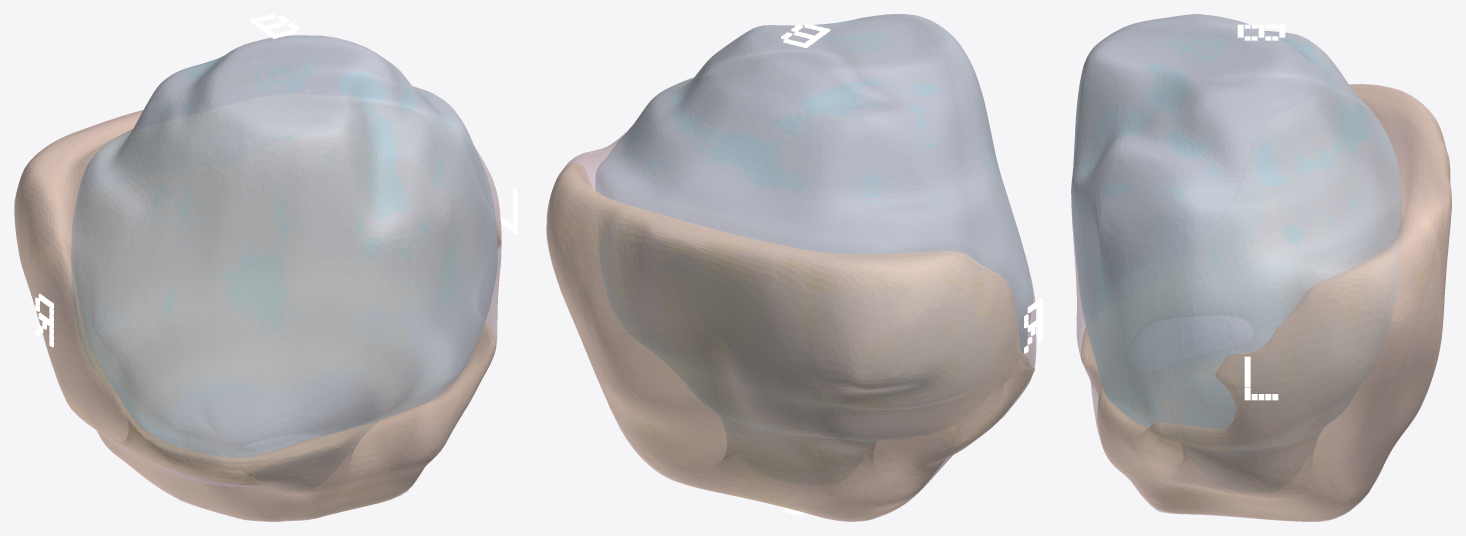
3 renders of one model, left to right at view 1: azimuth 30°, elevation 25°; view 2: azimuth 150°, elevation 25°; view 3: azimuth 270°, elevation 25°, orthographic.
Parts seen in each view (by area): view 1: prostate_gland, transition_zone, peripheral_zone, pv_ar_marker_B; view 2: prostate_gland, peripheral_zone, transition_zone, pv_ar_marker_B; view 3: prostate_gland, transition_zone, peripheral_zone, pv_ar_marker_B, pv_ar_marker_L.
Boxes of the visible parts, box(x1,y1,x2,y2) form: prostate_gland: box(14, 35, 501, 521); transition_zone: box(71, 35, 497, 457); peripheral_zone: box(15, 110, 501, 521); pv_ar_marker_B: box(249, 14, 299, 38); prostate_gland: box(546, 14, 1036, 521); peripheral_zone: box(547, 162, 1034, 520); transition_zone: box(595, 14, 1032, 440); pv_ar_marker_B: box(781, 23, 830, 48); prostate_gland: box(1071, 14, 1451, 521); transition_zone: box(1071, 14, 1401, 449); peripheral_zone: box(1081, 84, 1451, 521); pv_ar_marker_B: box(1237, 24, 1285, 40); pv_ar_marker_L: box(1244, 356, 1278, 400).
Bounding box in the file's own units: 0.0582 × 0.0569 × 0.0418.
